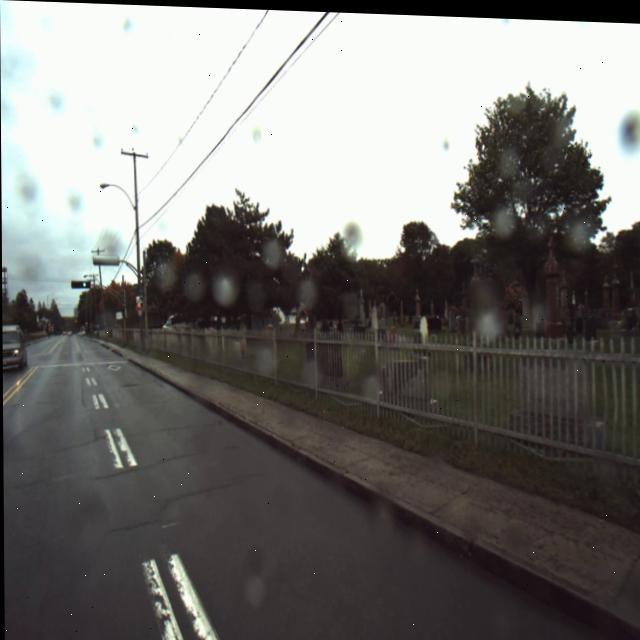trafficLight-Green: (72, 278, 91, 291)
